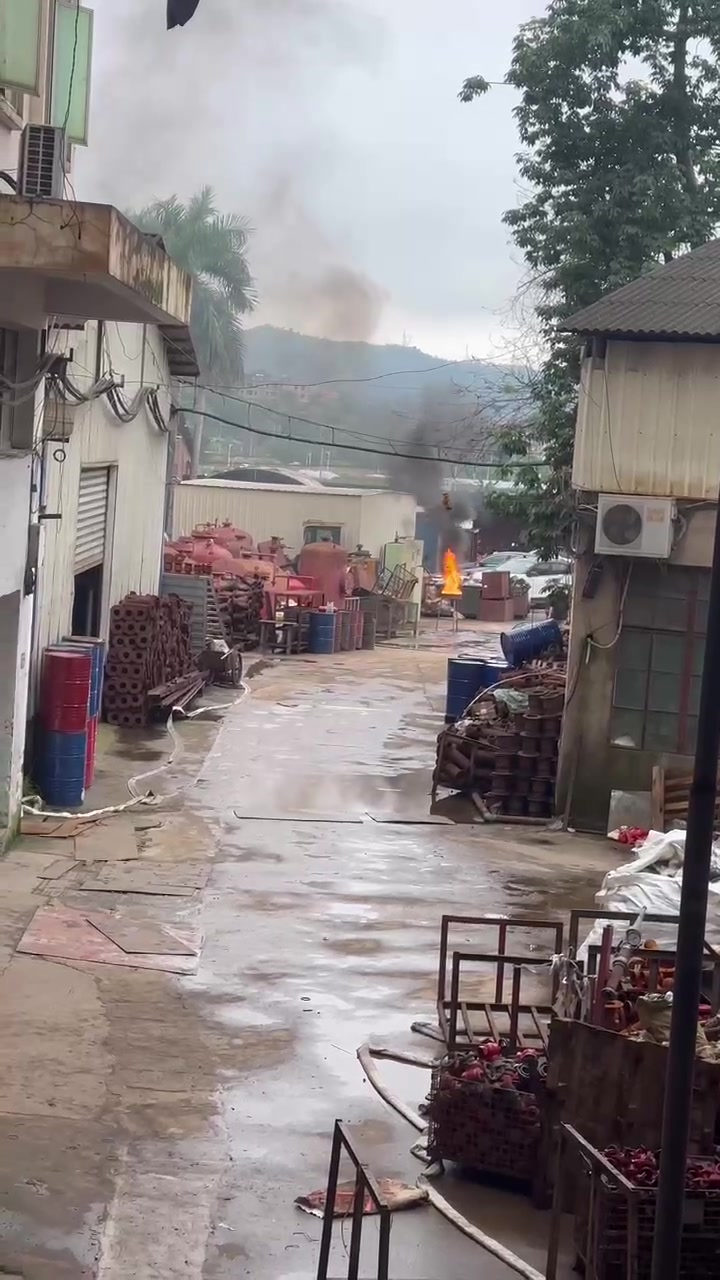fire: (441, 548, 461, 593)
